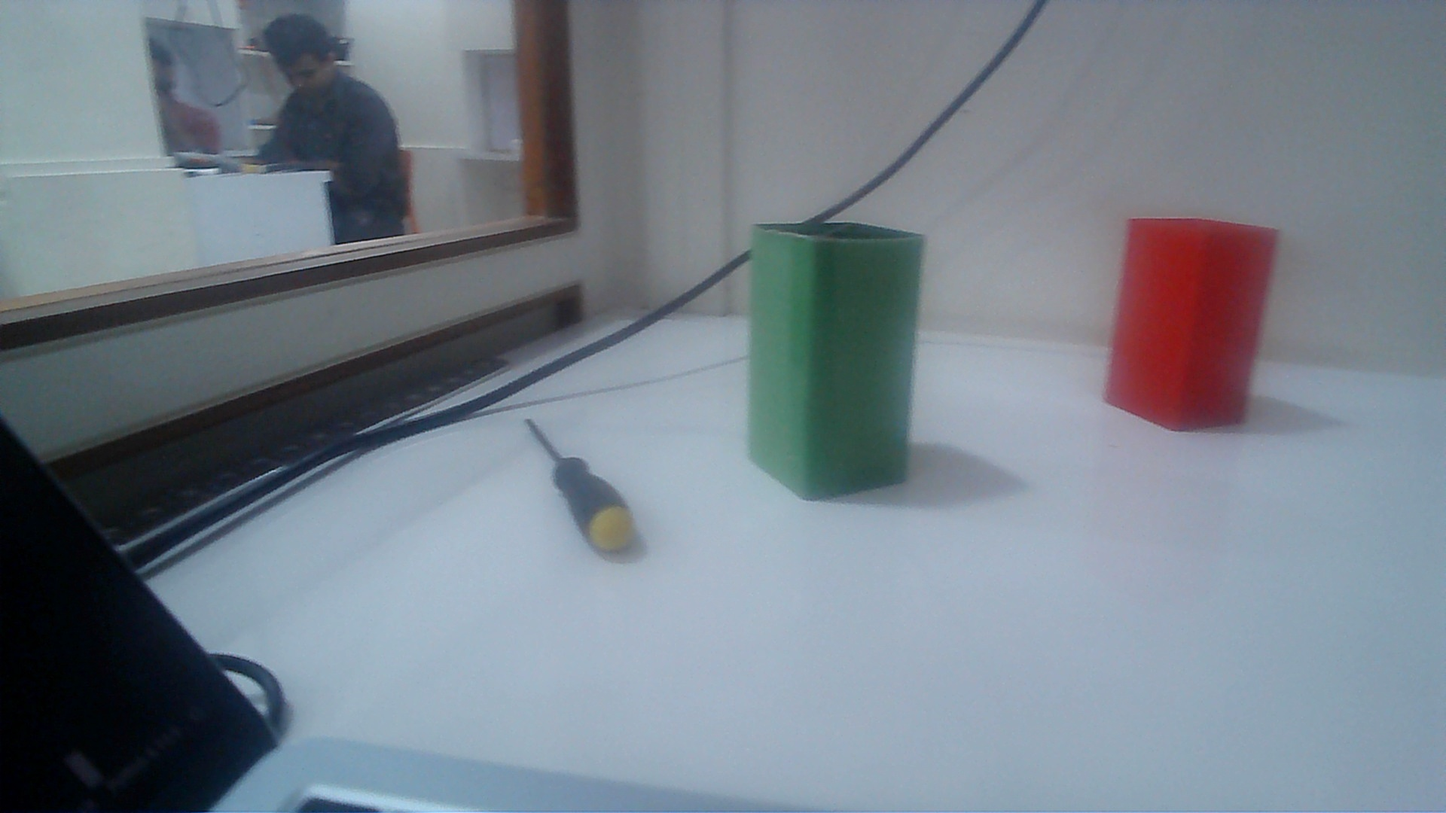green: (743, 227, 920, 501)
